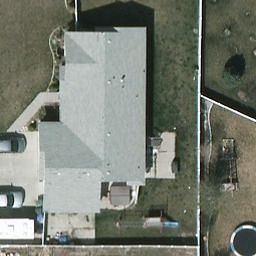camping car: (0, 219, 36, 240)
car: (0, 135, 28, 155)
pickup: (0, 191, 26, 210)
